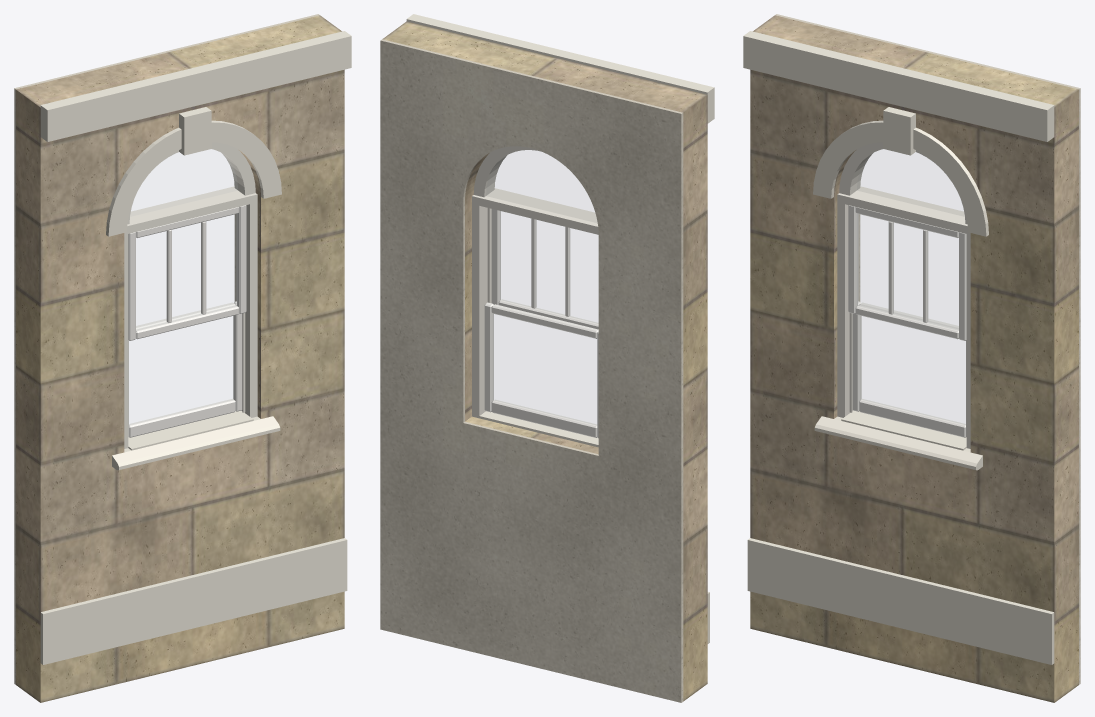
Rendered from wall_ground_arch_window.glb.
3 renders of one model, left to right at view 1: azimuth 30°, elevation 25°; view 2: azimuth 150°, elevation 25°; view 3: azimuth 330°, elevation 25°, orthographic.
Visible parts, largest first — view 1: wall_ground_arch_window_rustic, wall_ground_arch_window_trim, wall_ground_arch_window_glass, folha_glass, wall_ground_arch_window_frame, wall_ground_arch_window_sash, folha_sash, wall_ground_arch_window_plaster; view 2: wall_ground_arch_window_plaster, wall_ground_arch_window_rustic, wall_ground_arch_window_glass, folha_glass, wall_ground_arch_window_frame, wall_ground_arch_window_trim, folha_sash, wall_ground_arch_window_sash; view 3: wall_ground_arch_window_rustic, wall_ground_arch_window_trim, wall_ground_arch_window_glass, folha_glass, wall_ground_arch_window_frame, wall_ground_arch_window_sash, folha_sash, wall_ground_arch_window_plaster.
Part boxes in pixels (x1,y1,x2,y2): wall_ground_arch_window_rustic: [16, 15, 344, 702]; wall_ground_arch_window_trim: [40, 31, 351, 664]; wall_ground_arch_window_glass: [131, 150, 237, 329]; folha_glass: [129, 316, 233, 424]; wall_ground_arch_window_frame: [124, 142, 257, 448]; wall_ground_arch_window_sash: [128, 205, 246, 340]; folha_sash: [128, 301, 242, 437]; wall_ground_arch_window_plaster: [14, 14, 319, 684]; wall_ground_arch_window_plaster: [380, 39, 683, 702]; wall_ground_arch_window_rustic: [382, 21, 707, 701]; wall_ground_arch_window_glass: [486, 150, 597, 322]; folha_glass: [493, 314, 596, 424]; wall_ground_arch_window_frame: [472, 146, 598, 418]; wall_ground_arch_window_trim: [406, 14, 714, 643]; folha_sash: [484, 302, 598, 438]; wall_ground_arch_window_sash: [491, 209, 598, 329]; wall_ground_arch_window_rustic: [750, 15, 1078, 702]; wall_ground_arch_window_trim: [743, 31, 1054, 664]; wall_ground_arch_window_glass: [857, 150, 963, 329]; folha_glass: [861, 316, 965, 424]; wall_ground_arch_window_frame: [837, 142, 970, 448]; wall_ground_arch_window_sash: [848, 205, 966, 340]; folha_sash: [852, 301, 966, 437]; wall_ground_arch_window_plaster: [775, 14, 1080, 684].
Bounding box in the file's own units: 2 × 3.76 × 0.38.
Materials: 6 (2 with a texture image).
